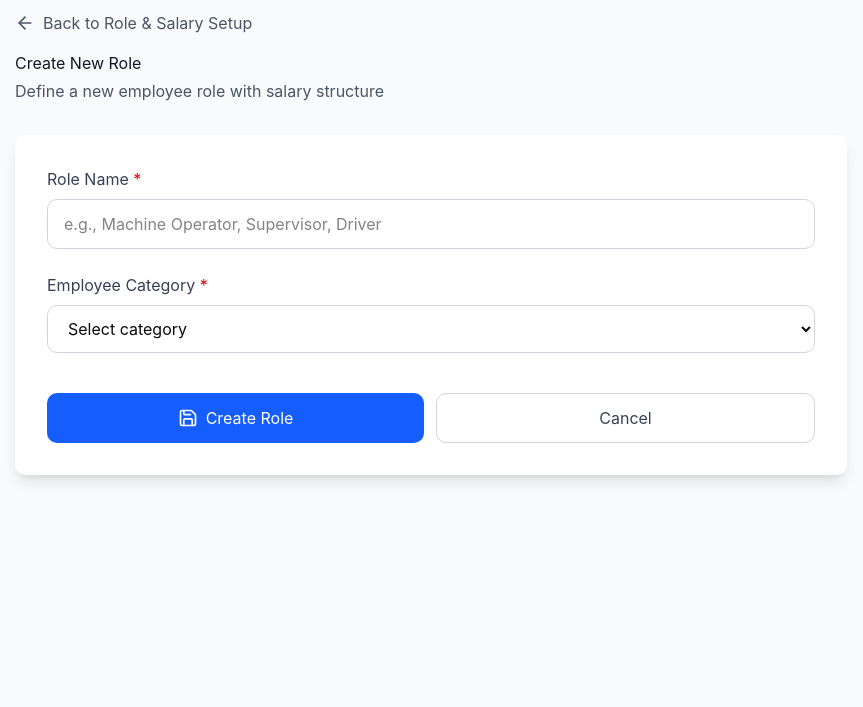
Test: CreateRoleScreen › fields for each category › Fixed Salary asks for a monthly salary and offers the no-loading-wages option
Select "Fixed Salary" in the dropdown labelled "Employee Category *" at (431, 329), box [47,305,815,353]
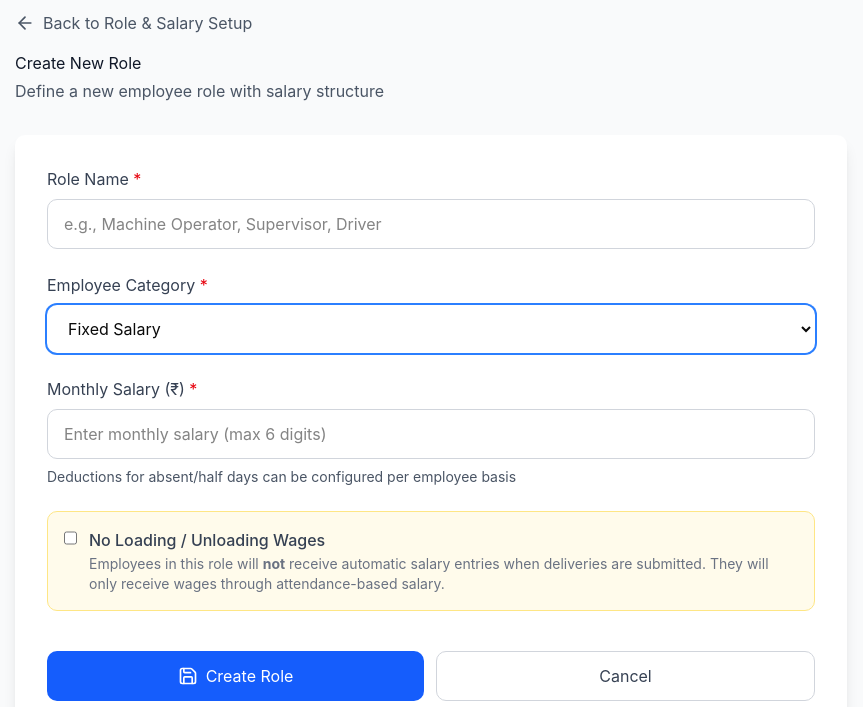
Check: the number field labelled "Monthly Salary (₹) *" is shown, box [47,409,815,459]
Check: the checkbox labelled "No Loading / Unloading Wages" is shown, box [64,530,77,546]
Check: the text "Deductions for absent/half days can be configured per employee basis" is shown, box [47,468,516,485]
